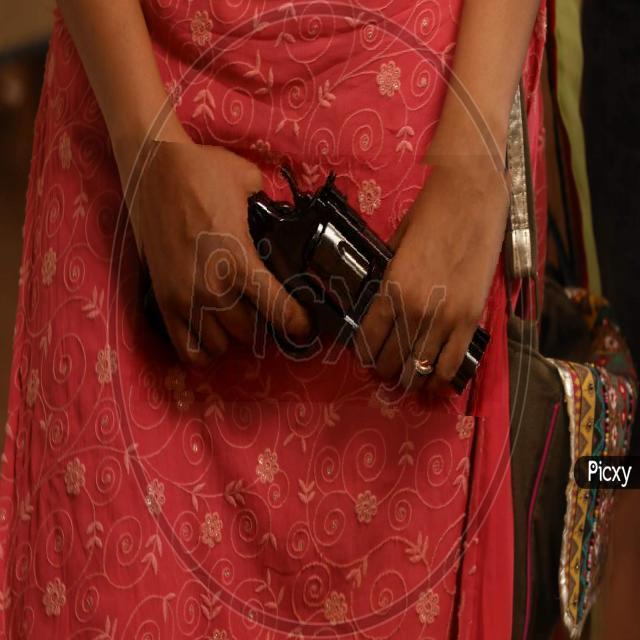handgun: (134, 148, 507, 410)
